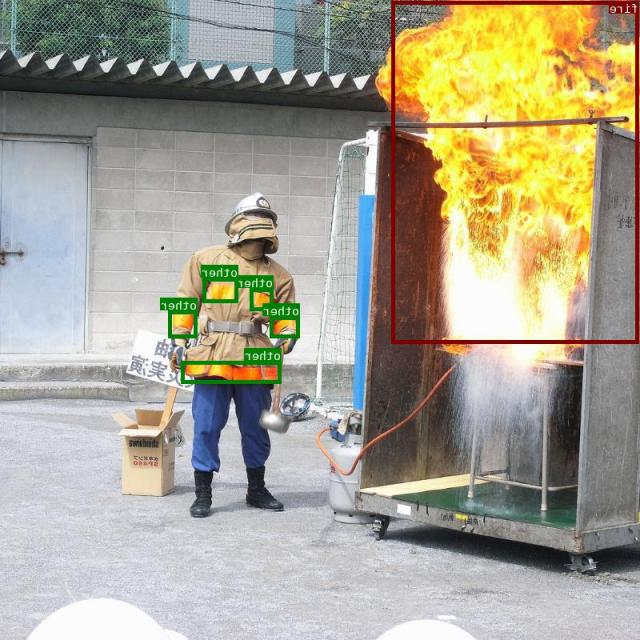fire: (392, 1, 640, 343)
other: (182, 360, 282, 383), (204, 277, 238, 302), (169, 310, 198, 337), (270, 315, 300, 337), (250, 287, 274, 310)
